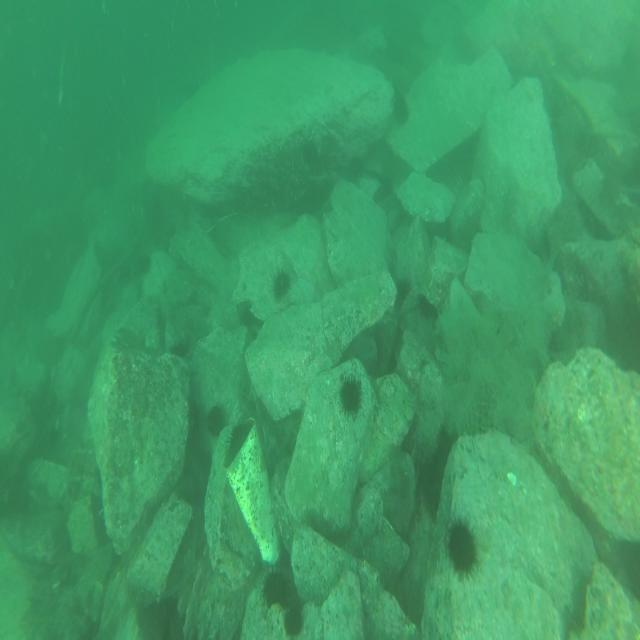echinus: (446, 516, 479, 578), (341, 375, 362, 416), (392, 91, 410, 127), (208, 404, 226, 437), (272, 272, 290, 302)
